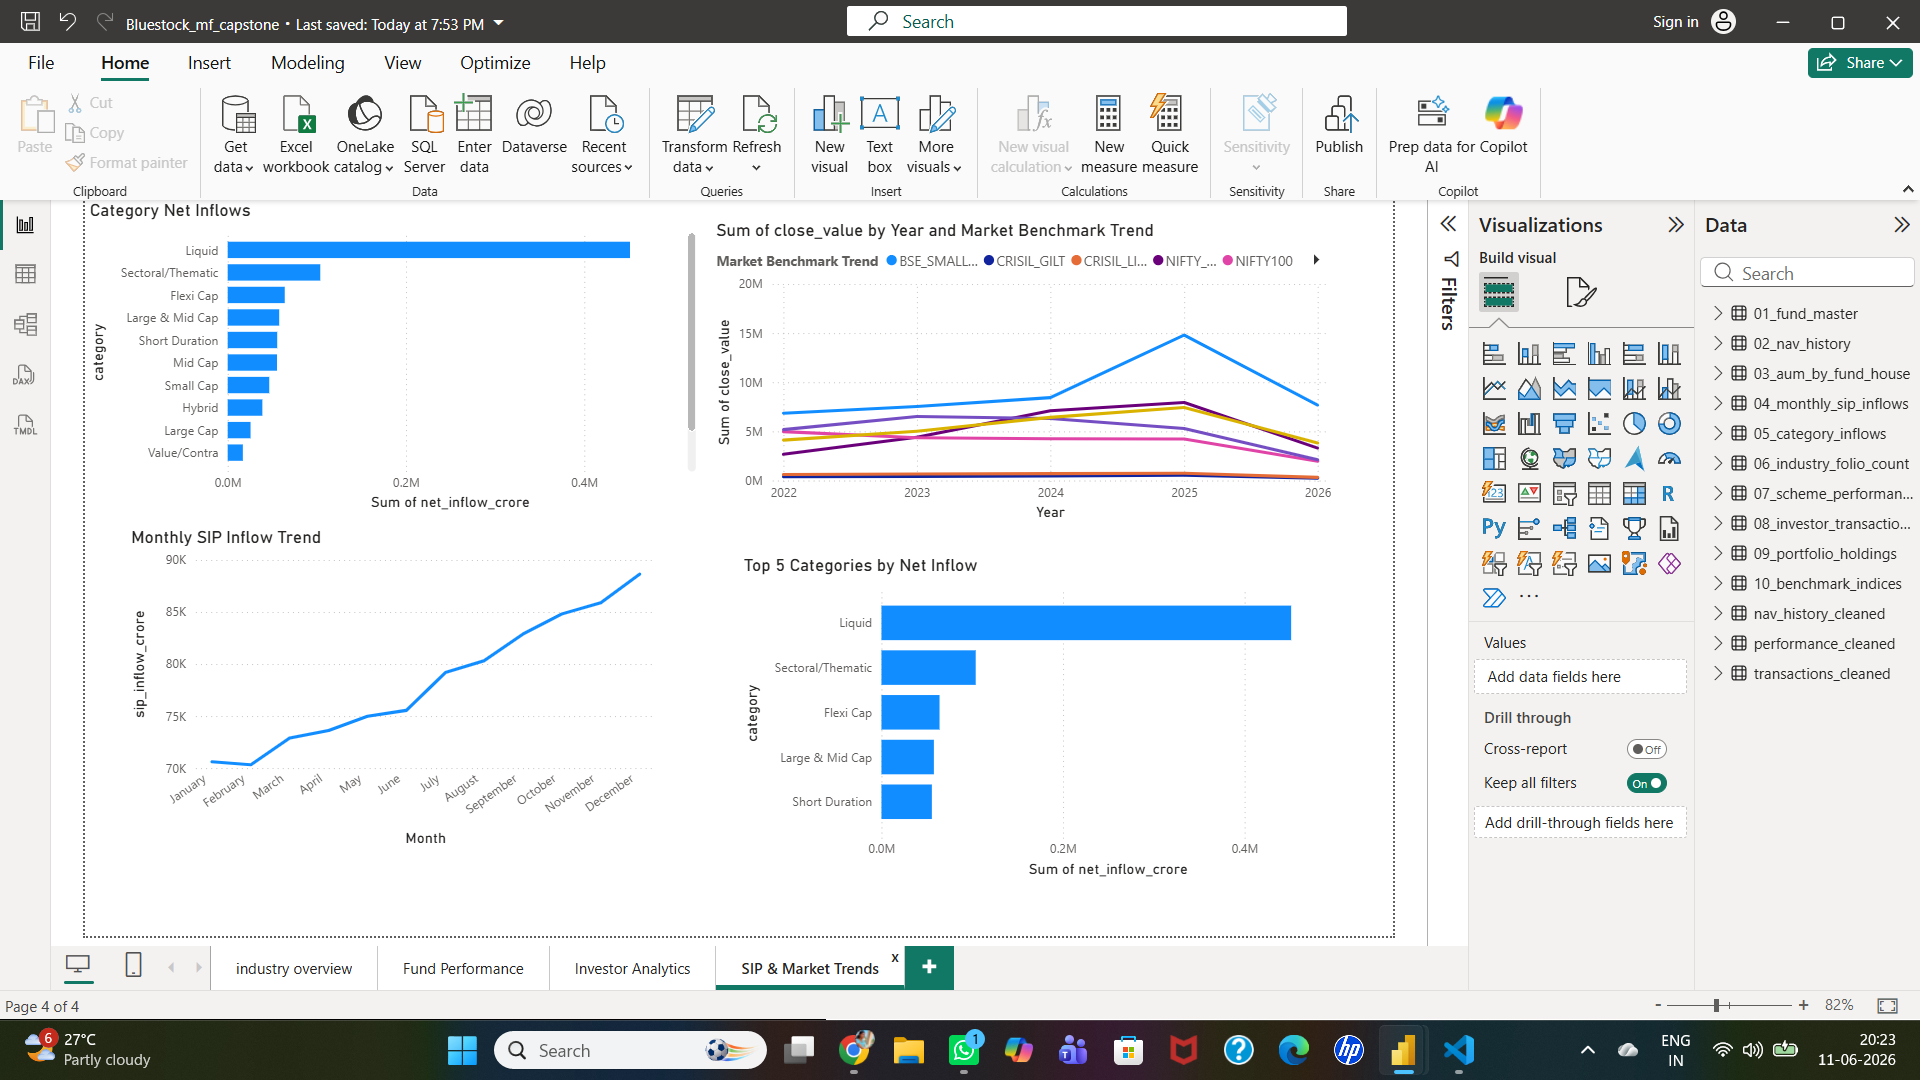

This screenshot's page, from the dashboard's own definition file:
{"tool":"powerbi","page":{"name":"SIP & Market Trends","canvas":[1280,720],"ordinal":3},"visuals":[{"type":"lineChart","title":"Monthly SIP Inflow Trend","fields":{"Category":["04_monthly_sip_inflows.month.Variation.Date Hierarchy.Month"],"Y":["Sum(04_monthly_sip_inflows.sip_inflow_crore)"]},"box":[40,318.6,522.9,318.6],"z":0},{"type":"lineChart","fields":{"Category":["10_benchmark_indices.date.Variation.Date Hierarchy.Year","10_benchmark_indices.date.Variation.Date Hierarchy.Quarter","10_benchmark_indices.date.Variation.Date Hierarchy.Month","10_benchmark_indices.date.Variation.Date Hierarchy.Day"],"Y":["Sum(10_benchmark_indices.close_value)"],"Series":["10_benchmark_indices.index_name"]},"box":[612.9,20,611.4,298.6],"z":1000},{"type":"clusteredBarChart","title":"Category Net Inflows","fields":{"Category":["05_category_inflows.category"],"Y":["Sum(05_category_inflows.net_inflow_crore)"]},"box":[0,0,602.9,308.6],"z":2000},{"type":"clusteredBarChart","title":"Top 5 Categories by Net Inflow","fields":{"Category":["05_category_inflows.category"],"Y":["Sum(05_category_inflows.net_inflow_crore)"]},"box":[640,347.1,602.9,320],"z":3000}]}

Visuals, with their boxes on the page's 1280x720 design canvas (x1, y1, x2, y2). These are canvas units, not pixel positions in the 1920x1080 screenshot, which may show the page scaled, cropped or inside an application window:
"Monthly SIP Inflow Trend" lineChart: bbox=[40, 319, 563, 637]
lineChart - 10_benchmark_indices.date.Variation.Date Hierarchy.Year x 10_benchmark_indices.date.Variation.Date Hierarchy.Quarter: bbox=[613, 20, 1224, 319]
"Category Net Inflows" clusteredBarChart: bbox=[0, 0, 603, 309]
"Top 5 Categories by Net Inflow" clusteredBarChart: bbox=[640, 347, 1243, 667]
